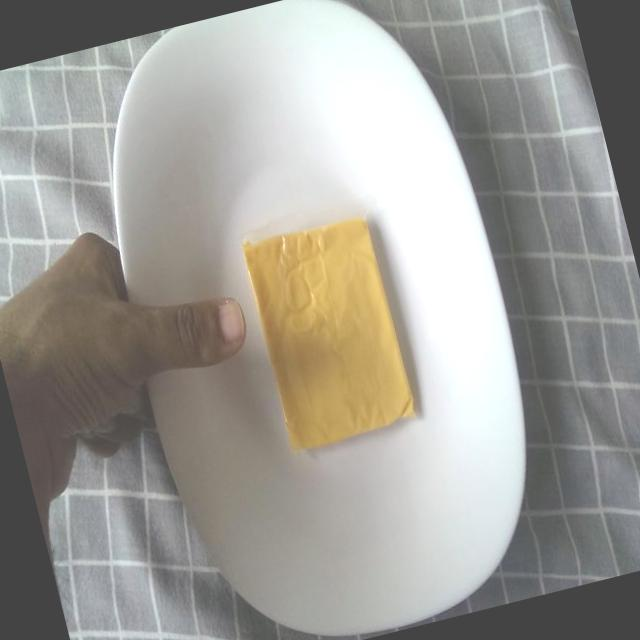Cheese: (231, 198, 428, 462)
Finger: (160, 279, 260, 383)
